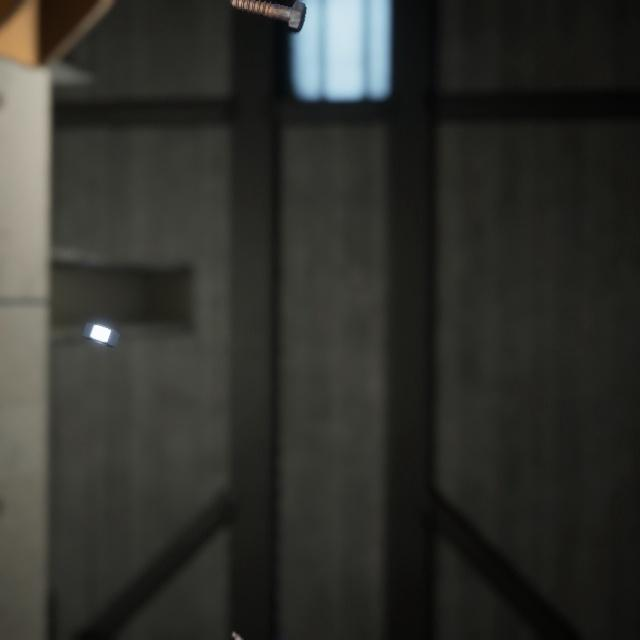bolt: (228, 0, 311, 29), (227, 601, 267, 640)
nut: (78, 300, 124, 333)
